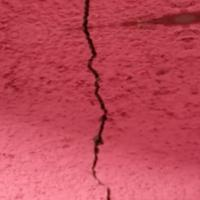crack: (61, 2, 124, 199)
